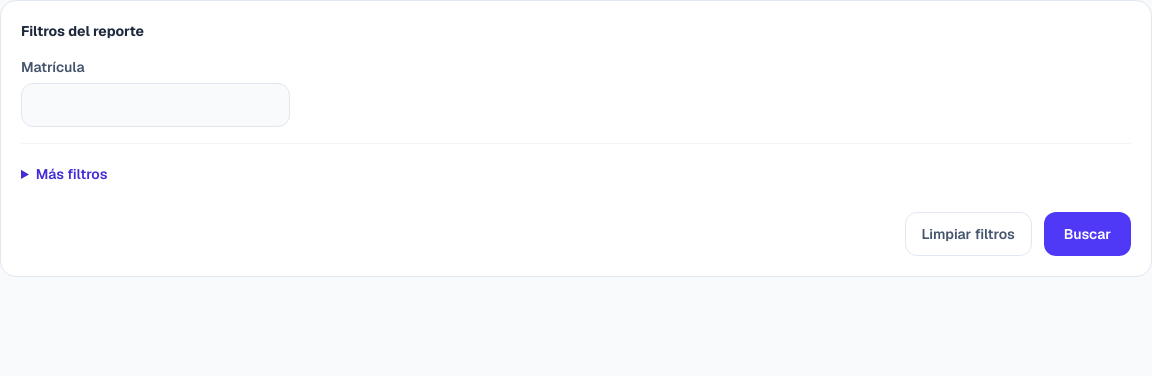
Test case: ReportFilterPanel › conserva el borrador avanzado al plegarlo y lo aplica junto con los filtros principales
Later steps or results of the test are not shown.
Expected: the field labelled "Estado" is not shown
Click the heading "Más filtros" at (72, 174), box left=36, top=165, right=107, bottom=183
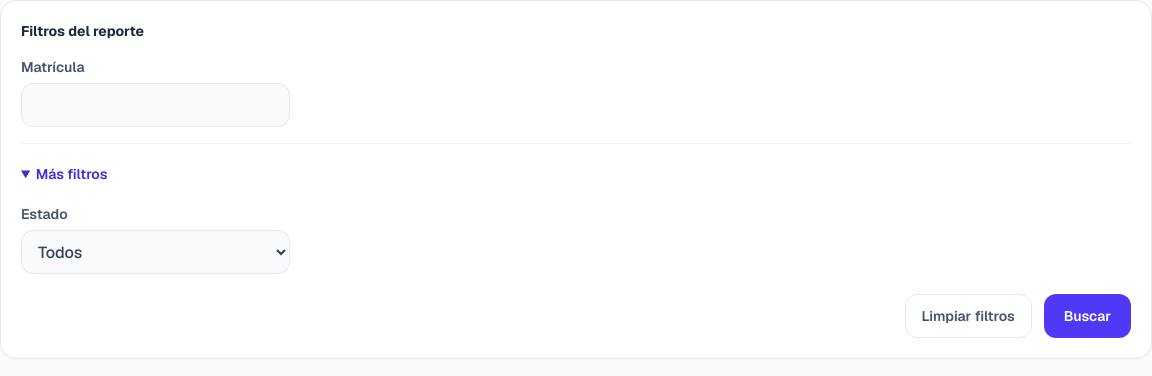
Select "Entregado" in the dropdown labelled "Estado" at (155, 252), box left=21, top=230, right=290, bottom=274
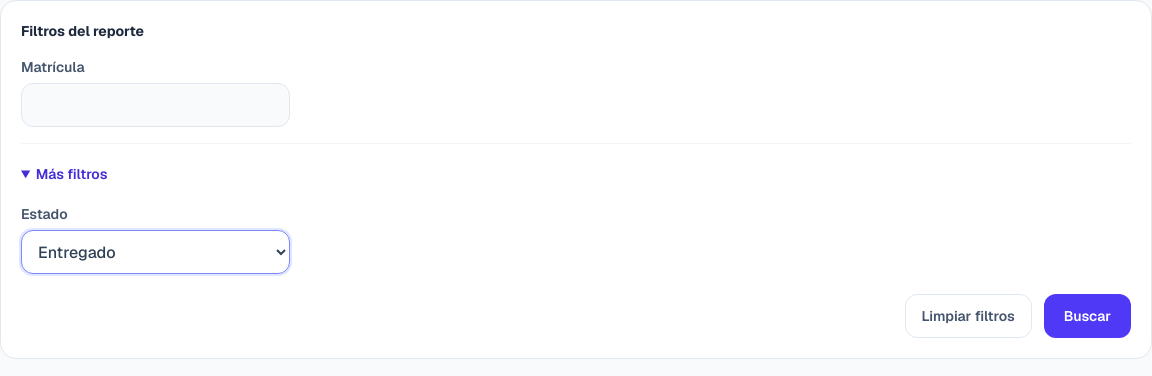
Click the heading "Más filtros" at (72, 174), box left=36, top=165, right=107, bottom=183
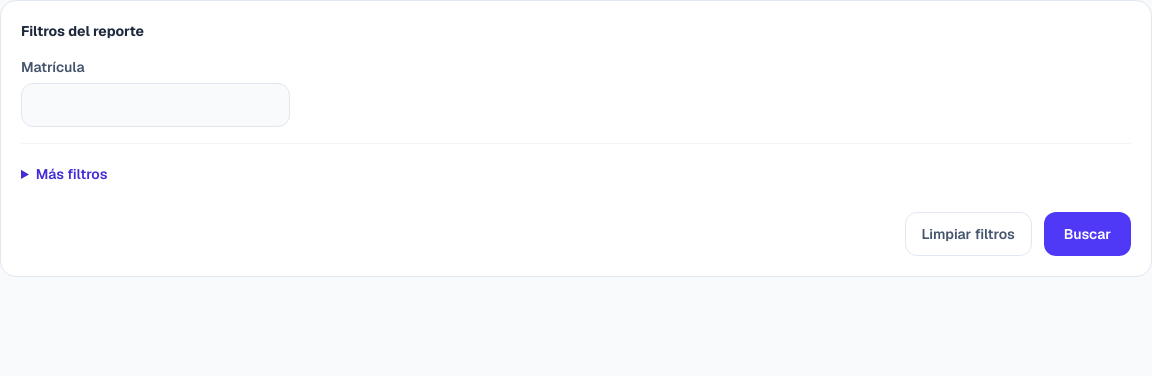
Expected: the label labelled "Estado" is gone
